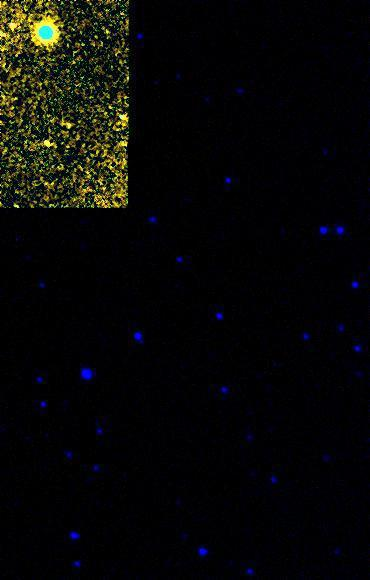star: (32, 16, 62, 46)
